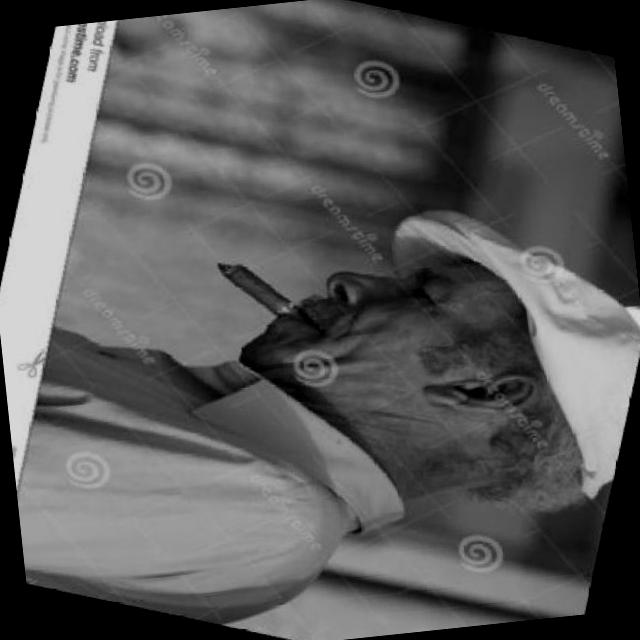cigarette: (201, 245, 320, 338)
